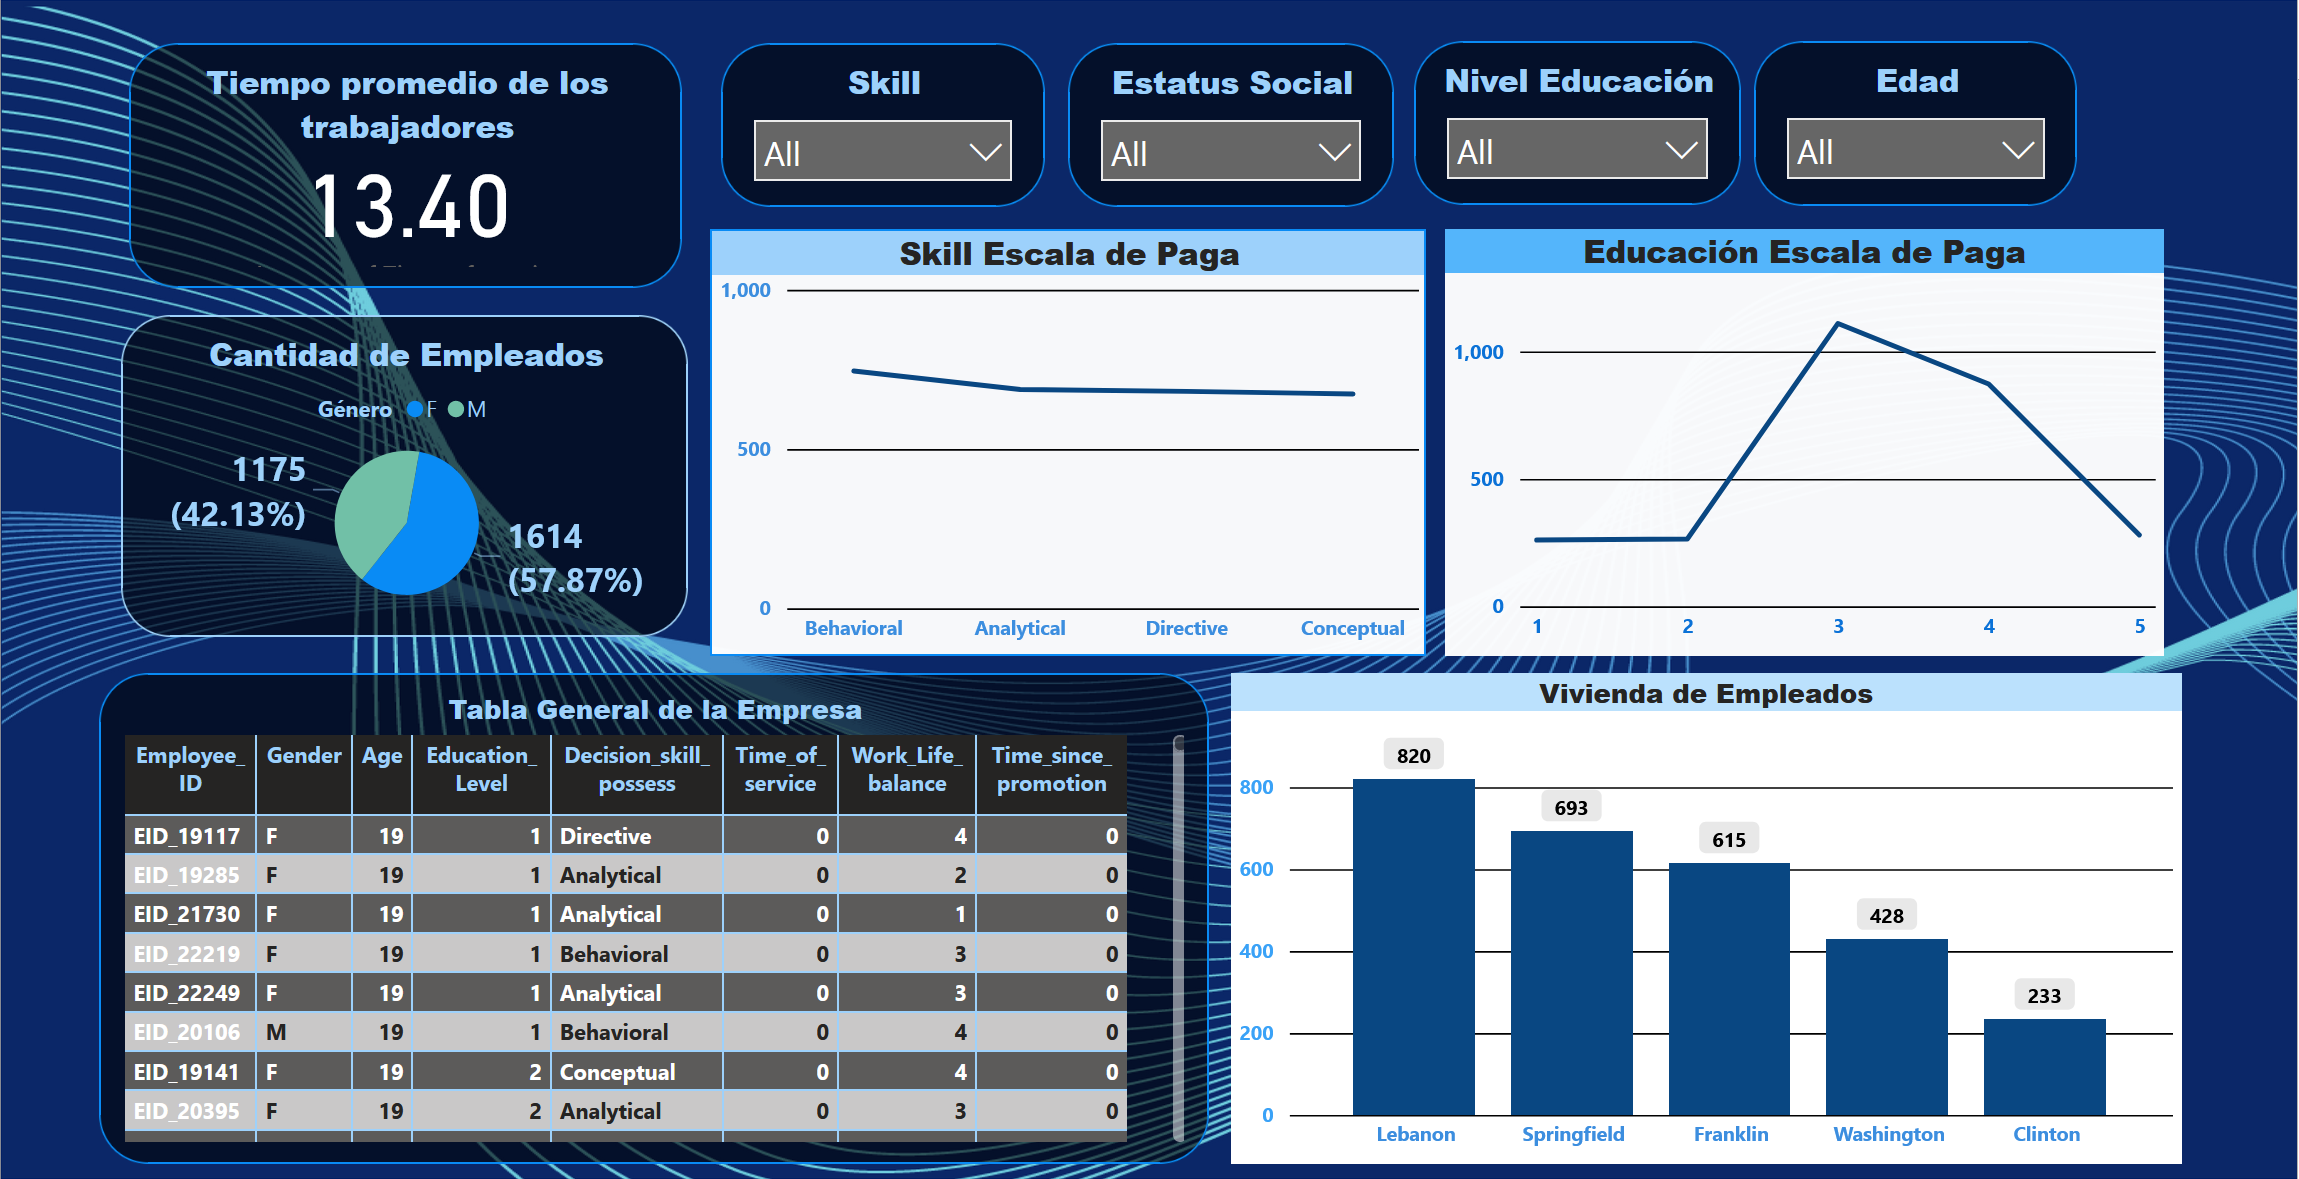

What the dashboard file says about the page in this screenshot:
{"tool":"powerbi","page":{"name":"Página 1","canvas":[1280,720],"ordinal":0},"visuals":[{"type":"card","title":"Tiempo promedio de los trabajadores","fields":{"Values":["Avg(Employee Attrition.Time_of_service)"]},"box":[18.1,26.7,337.4,149.6],"z":0},{"type":"slicer","title":"Nivel Educación","fields":{"Values":["Employee Attrition.Education_Level"]},"box":[801.5,25.7,199.2,100.1],"z":1000},{"type":"pieChart","title":"Cantidad de Empleados ","fields":{"Y":["CountNonNull(Employee Attrition.Índice)"],"Category":["Employee Attrition.Gender"]},"box":[13.3,192.5,346,196.3],"z":2000},{"type":"tableEx","title":"Tabla General de la Empresa","fields":{"Values":["Employee Attrition.Employee_ID","Employee Attrition.Gender","Employee Attrition.Age","Employee Attrition.Education_Level","Employee Attrition.Decision_skill_possess","Employee Attrition.Time_of_service","Employee Attrition.Work_Life_balance","Employee Attrition.Time_since_promotion"]},"box":[0,411,676.6,299.1],"z":3000},{"type":"slicer","title":"Estatus Social","fields":{"Values":["Employee Attrition.Relationship_Status"]},"box":[590.6,26.6,198.7,99.9],"z":4000},{"type":"slicer","title":"Skill","fields":{"Values":["Employee Attrition.Decision_skill_possess"]},"box":[379.3,26.7,197.3,100.1],"z":5000},{"type":"slicer","title":"Edad","fields":{"Values":["Employee Attrition.Age"]},"box":[1009.1,25.8,197.2,100.5],"z":6000},{"type":"columnChart","title":"Vivienda de Empleados","fields":{"Category":["Employee Attrition.Hometown"],"Y":["Count(Employee Attrition.Índice)"]},"box":[690,410.8,579.5,299.3],"z":7000},{"type":"lineChart","title":"Skill Escala de Paga","fields":{"Y":["CountNonNull(Employee Attrition.Pay_Scale)"],"Category":["Employee Attrition.Decision_skill_possess"]},"box":[372.7,140.1,436.5,260.2],"z":8000},{"type":"lineChart","title":"Educación Escala de Paga","fields":{"Y":["CountNonNull(Employee Attrition.Pay_Scale)"],"Category":["Employee Attrition.Education_Level"]},"box":[820.6,140.1,438.4,260.2],"z":9000}]}

Visuals, with their boxes in screenshot pixels (x1, y1, x2, y2):
"Tiempo promedio de los trabajadores" card: BBox(149, 49, 694, 291)
"Nivel Educación" slicer: BBox(1415, 48, 1736, 209)
"Cantidad de Empleados " pieChart: BBox(141, 317, 700, 634)
"Tabla General de la Empresa" tableEx: BBox(120, 670, 1213, 1153)
"Estatus Social" slicer: BBox(1074, 49, 1395, 210)
"Skill" slicer: BBox(732, 49, 1051, 211)
"Edad" slicer: BBox(1750, 48, 2068, 210)
"Vivienda de Empleados" columnChart: BBox(1234, 670, 2171, 1153)
"Skill Escala de Paga" lineChart: BBox(722, 232, 1427, 653)
"Educación Escala de Paga" lineChart: BBox(1445, 232, 2154, 653)
